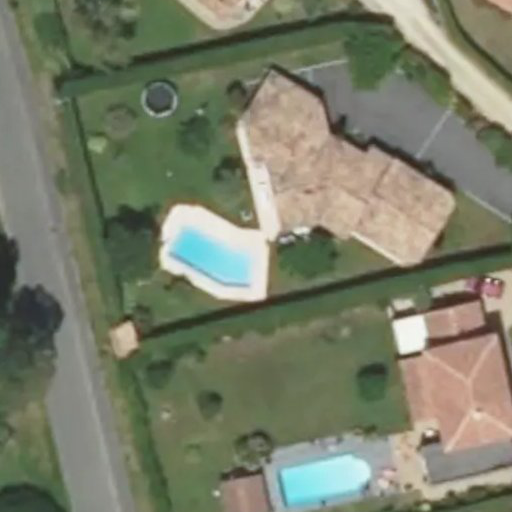pool: (165, 223, 252, 287), (277, 455, 374, 509)
